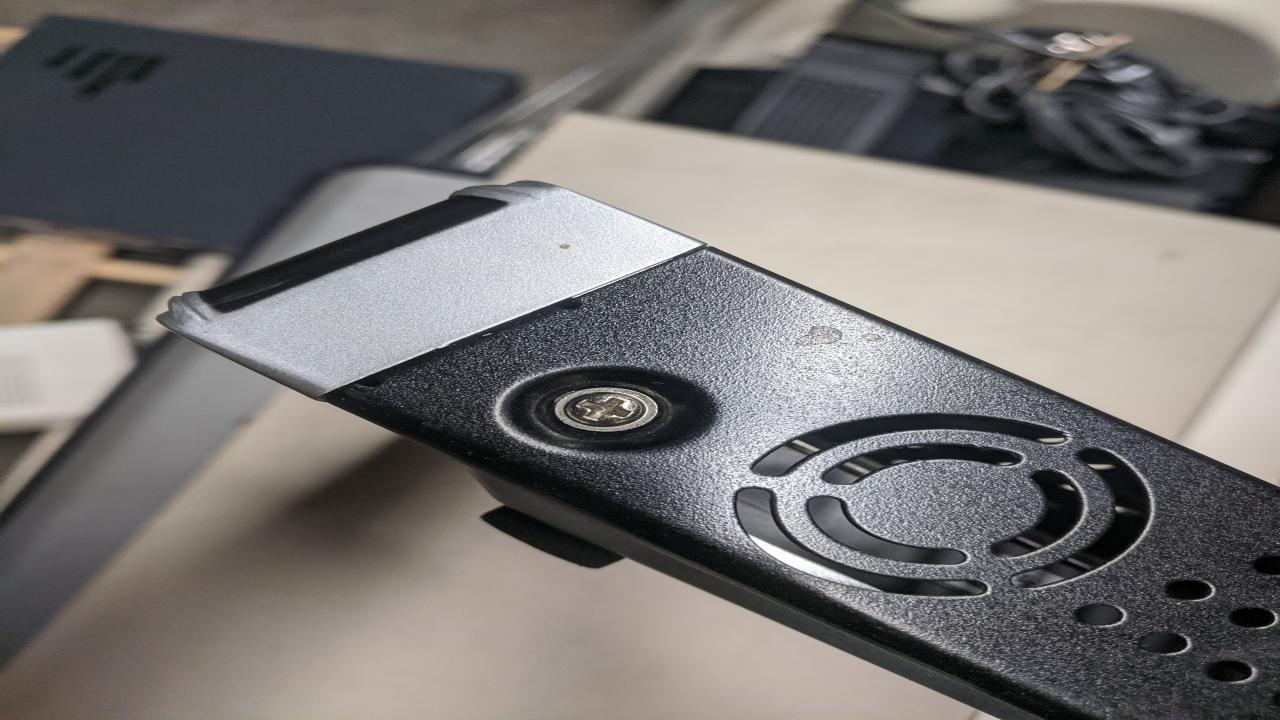CRS: (557, 391, 652, 428)
